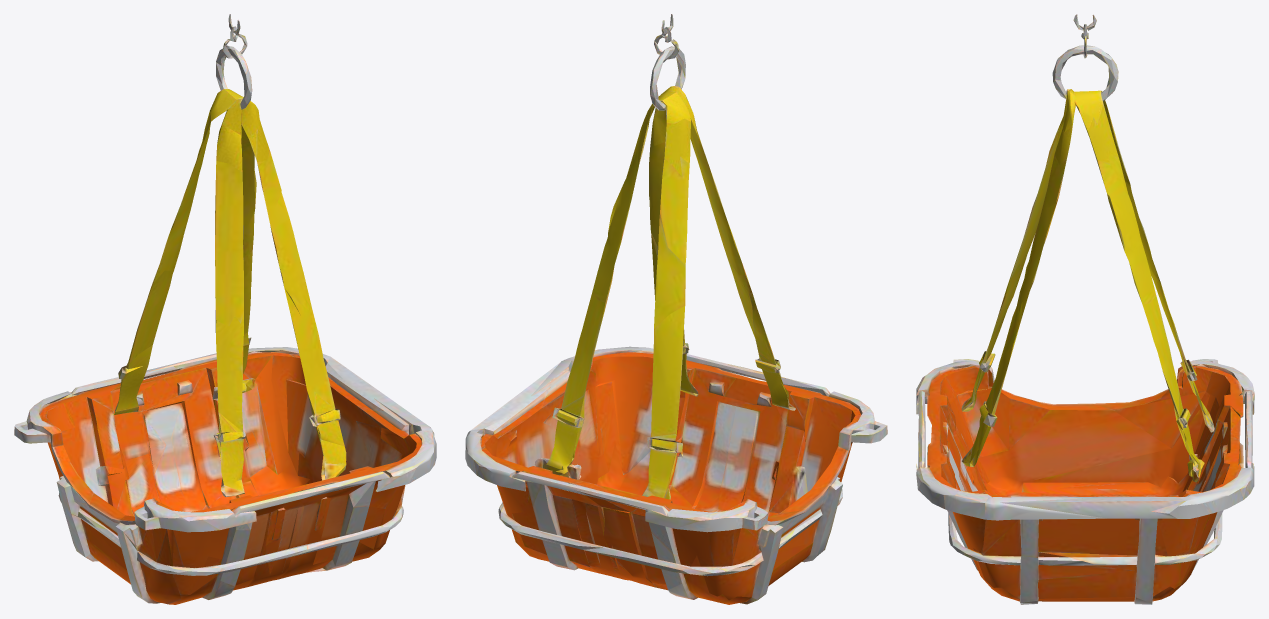
Rendered from basket.glb.
The picture shows the model from 3 angles, left to right: view 1: azimuth 30°, elevation 25°; view 2: azimuth 150°, elevation 25°; view 3: azimuth 270°, elevation 25°; orthographic projection.
Bounding box in the file's own units: 1.14 × 1.9 × 1.08.
1 material, 1 textured.
